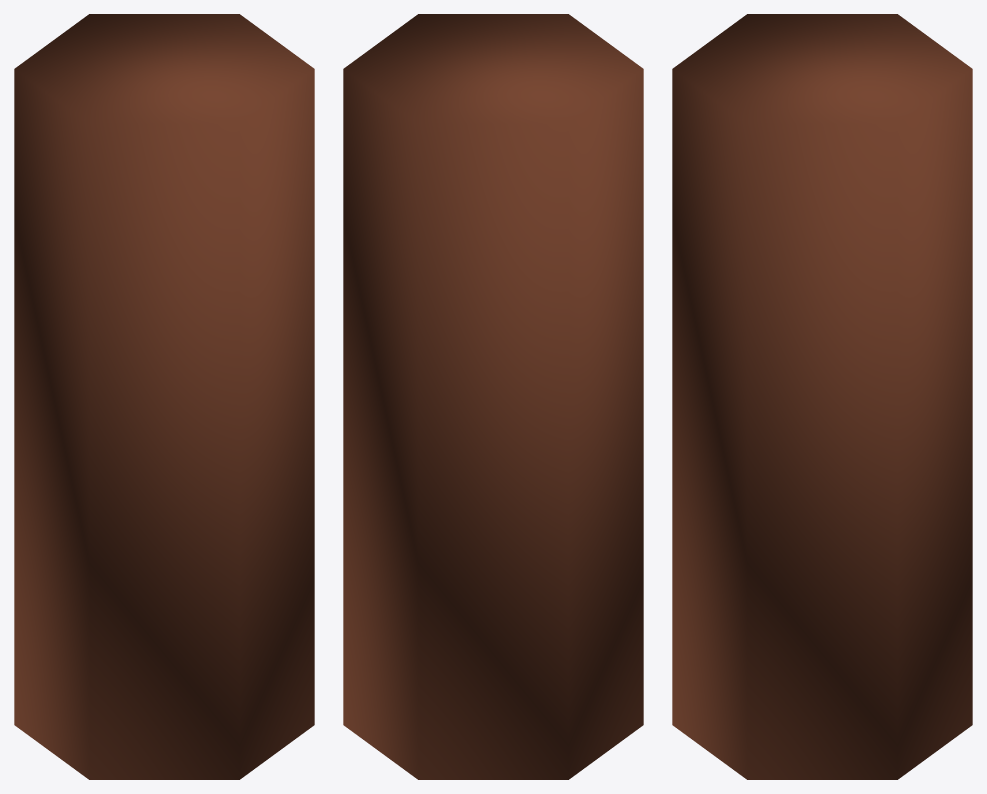
Rendered from CoatRack3.fbx.
3 views of the same model, side by side, from view 1: azimuth 30°, elevation 25°; view 2: azimuth 150°, elevation 25°; view 3: azimuth 270°, elevation 25° (orthographic).
Visible parts, largest first — view 1: Cylinder.031; view 2: Cylinder.031; view 3: Cylinder.031.
Part boxes in pixels (x1=…): Cylinder.031: x1=14, y1=14, x2=314, y2=779; Cylinder.031: x1=343, y1=14, x2=643, y2=779; Cylinder.031: x1=672, y1=14, x2=972, y2=779.
Bounding box in the file's own units: 38.23 × 106 × 44.15.
